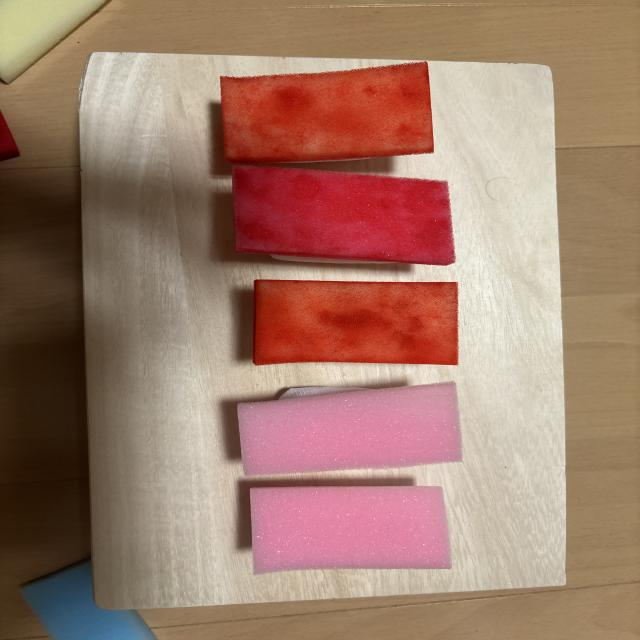maguro: (233, 166, 455, 265)
salmon: (221, 63, 433, 163), (254, 280, 457, 364)
tai: (239, 382, 462, 475), (251, 486, 451, 573)
